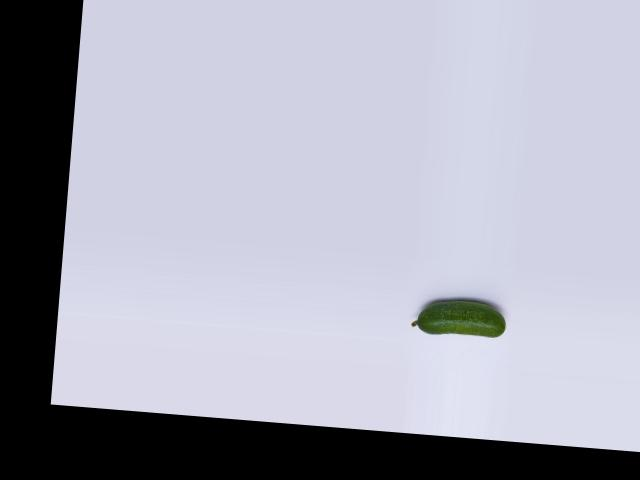cucumber: (411, 296, 508, 339)
